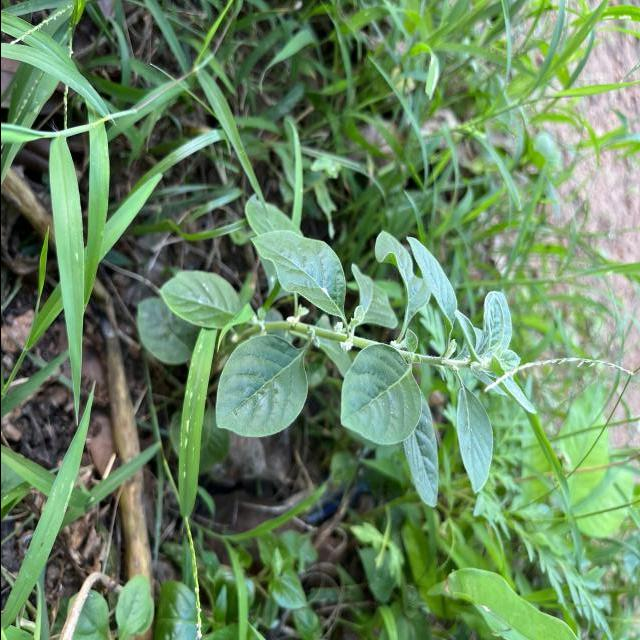Aerva lanata: (212, 331, 312, 441), (248, 228, 346, 328), (336, 341, 425, 446)
